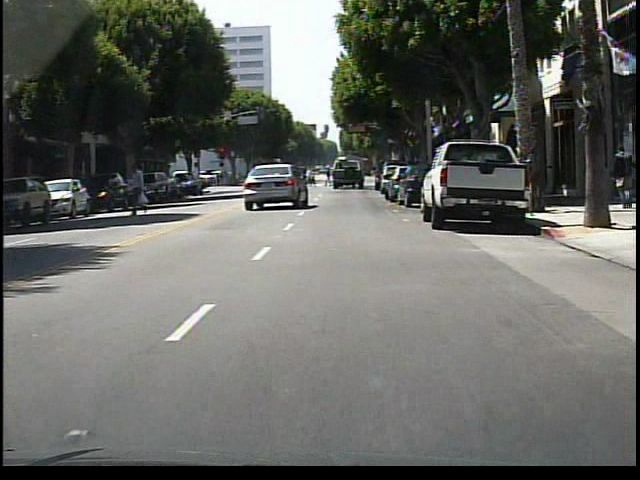person: (609, 146, 635, 209), (130, 158, 151, 217), (324, 164, 335, 188), (309, 166, 315, 189)
